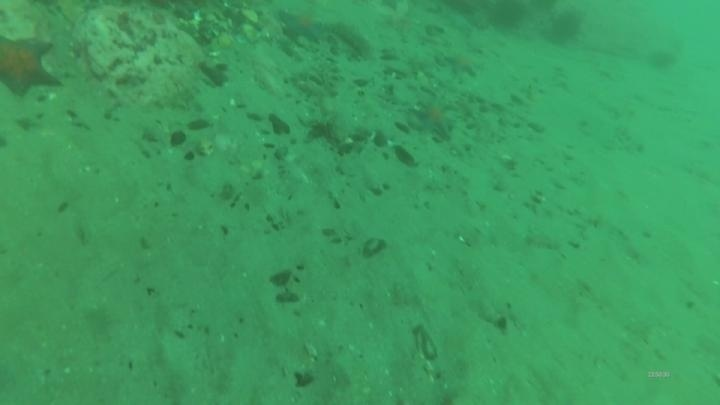echinus: (544, 8, 586, 47), (485, 0, 529, 33), (645, 46, 679, 74)
holothurian: (318, 18, 373, 59)
starfish: (0, 33, 64, 99), (412, 95, 459, 141), (277, 8, 328, 45), (442, 48, 486, 80)
